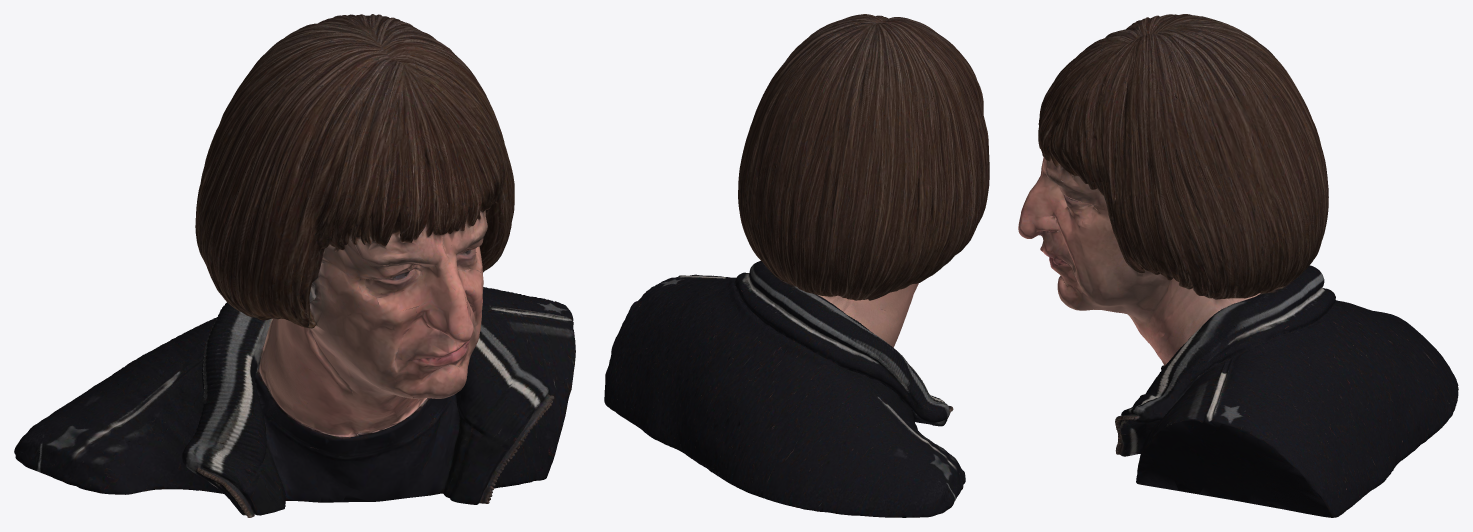
Rendered from chris.glb.
The picture shows the model from 3 angles, left to right: view 1: azimuth 30°, elevation 25°; view 2: azimuth 150°, elevation 25°; view 3: azimuth 270°, elevation 25°; orthographic projection. The views are drawn at different scales.
Visible parts, largest first — view 1: output_unwrapped; view 2: output_unwrapped; view 3: output_unwrapped.
Part boxes in pixels (x1,y1,x2,y2): output_unwrapped: (14,14,575,517); output_unwrapped: (604,14,989,517); output_unwrapped: (1018,14,1458,517).
Size of the model in its own units: 1.9 by 1.8 by 1.82.
1 material, 1 textured.
